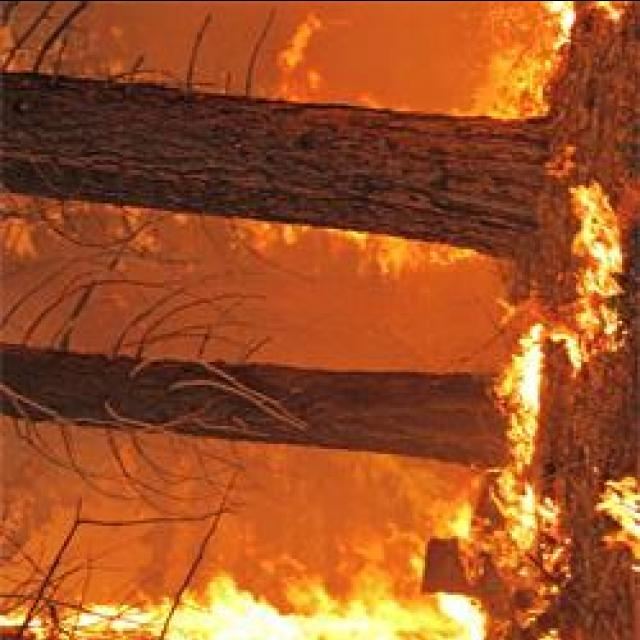fire: (33, 582, 487, 640), (486, 320, 550, 553), (566, 179, 626, 351), (595, 472, 640, 550)
